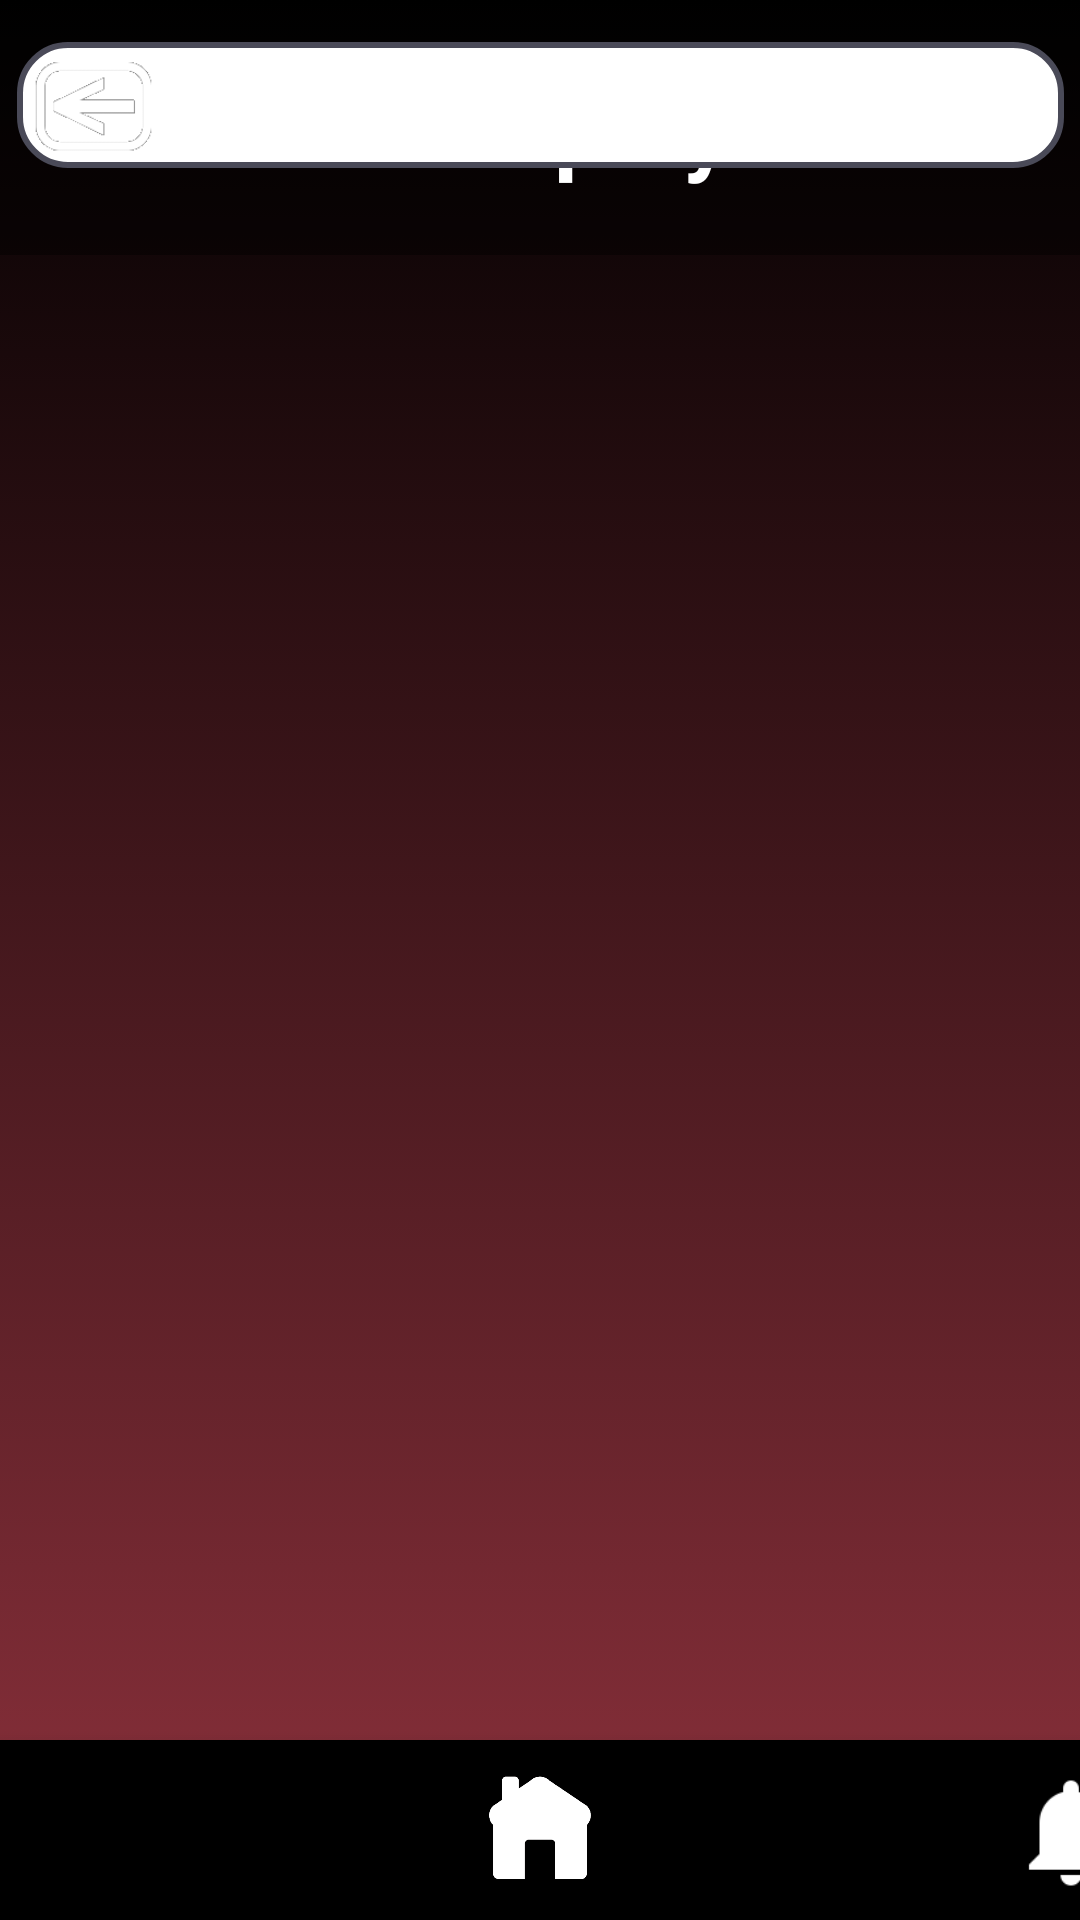

Named icons in this screenshot (1080w x 1920h) and their centers, point (x, y):
Back: point (93, 108)
homeicon: point (540, 1827)
